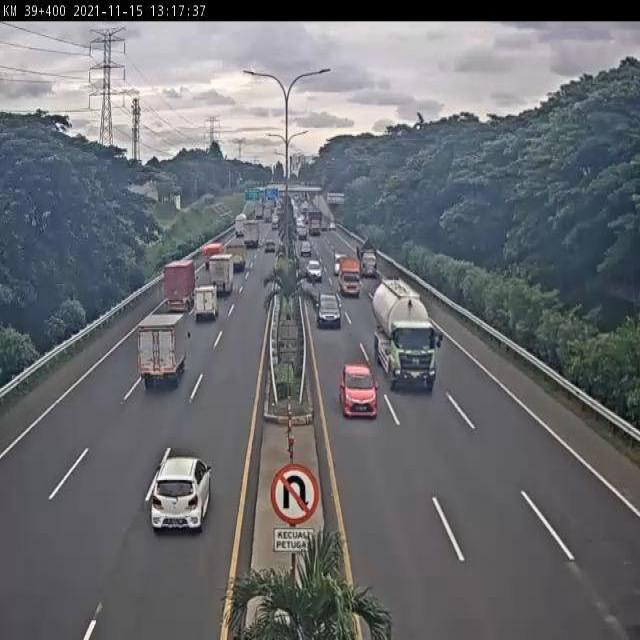car: (148, 452, 213, 536), (339, 362, 377, 422), (316, 294, 343, 330), (305, 257, 324, 284)
truck-l-: (374, 277, 441, 391)
truck-m-: (136, 312, 192, 388), (164, 257, 198, 311), (207, 254, 235, 294), (226, 243, 247, 272)
truck-s-: (339, 257, 362, 300), (195, 284, 218, 323), (359, 242, 378, 278)
